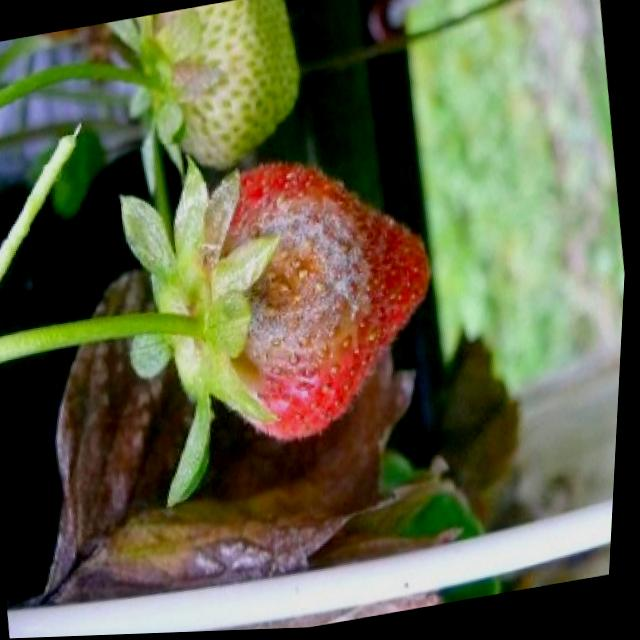Powdery Mildew Fruit: (201, 170, 390, 403)
